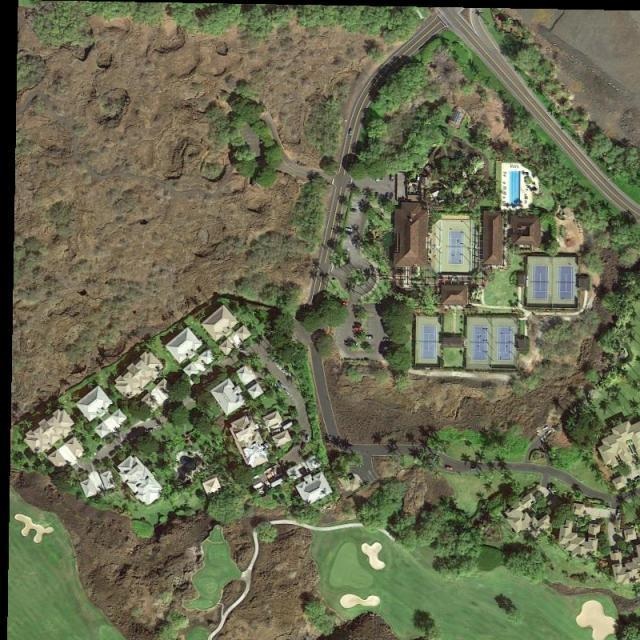vehicle: (278, 381, 286, 389), (345, 231, 353, 237), (300, 442, 306, 450), (286, 390, 292, 398), (376, 174, 381, 182), (349, 129, 354, 137), (354, 327, 363, 331), (383, 338, 392, 342), (306, 434, 310, 442), (346, 228, 354, 232), (390, 193, 394, 201), (386, 193, 390, 201), (342, 302, 349, 306), (446, 467, 454, 470), (366, 336, 374, 339), (391, 174, 394, 182), (470, 468, 477, 471)
